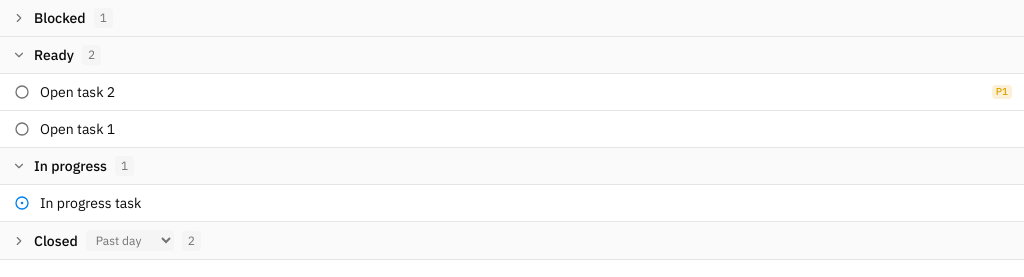
Test: TaskList › collapse/expand › toggles group on header click
Expected: the text "Open task 1" is shown, 40,120 -> 115,138
Click to collapse
Step 1. Click the button with aria-label "Ready section" → [54, 55], box 0,37 -> 1023,74
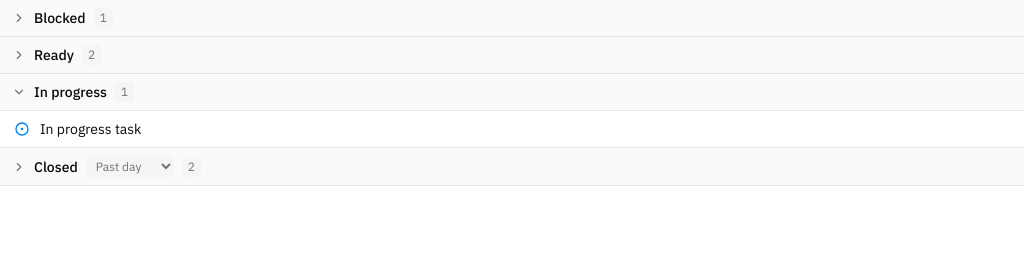
Expected: the button "Open task 1" is gone
Click to expand again
Step 2. Click the button with aria-label "Ready section" → [54, 55], box 0,37 -> 1023,74
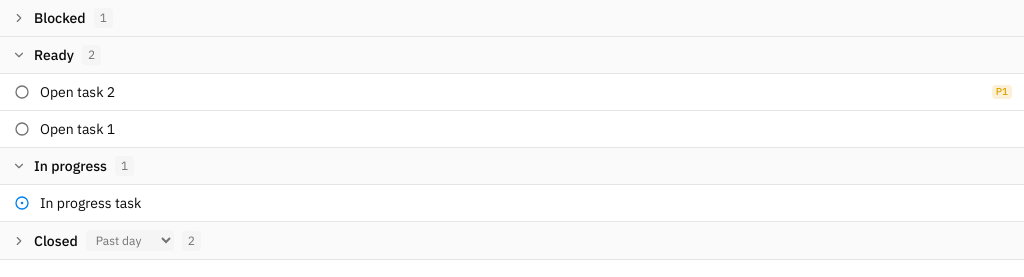
Expected: the text "Open task 1" is shown, 40,120 -> 115,138
